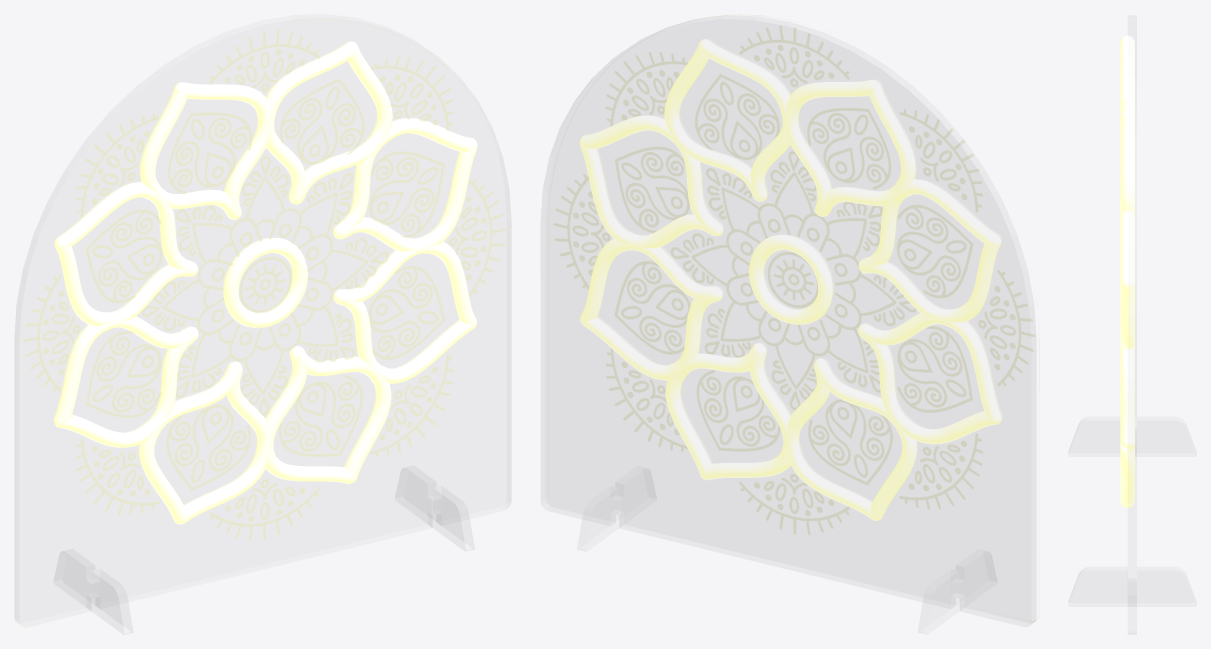
File: 5_мандала_small.glb
3 renders of one model, left to right at view 1: azimuth 30°, elevation 25°; view 2: azimuth 150°, elevation 25°; view 3: azimuth 270°, elevation 25°, orthographic. The views are drawn at different scales.
Parts seen in each view (by area): view 1: Curve.001, Curve.003, Curve, Curve.007; view 2: Curve.001, Curve.003, Curve, Curve.007; view 3: Curve.007, Curve.003, Curve.001.
Part boxes in pixels (x1=…): Curve.001: x1=15, y1=14, x2=510, y2=626; Curve.003: x1=53, y1=41, x2=477, y2=524; Curve: x1=19, y1=19, x2=511, y2=627; Curve.007: x1=54, y1=466, x2=473, y2=634; Curve.001: x1=541, y1=16, x2=1035, y2=626; Curve.003: x1=579, y1=38, x2=1002, y2=520; Curve: x1=549, y1=14, x2=1039, y2=621; Curve.007: x1=578, y1=466, x2=996, y2=634; Curve.007: x1=1069, y1=417, x2=1195, y2=606; Curve.003: x1=1120, y1=35, x2=1134, y2=508; Curve.001: x1=1128, y1=16, x2=1136, y2=634.
Bounding box in the file's own units: 0.2809 × 0.2964 × 0.0701.
3 materials, 1 textured.
